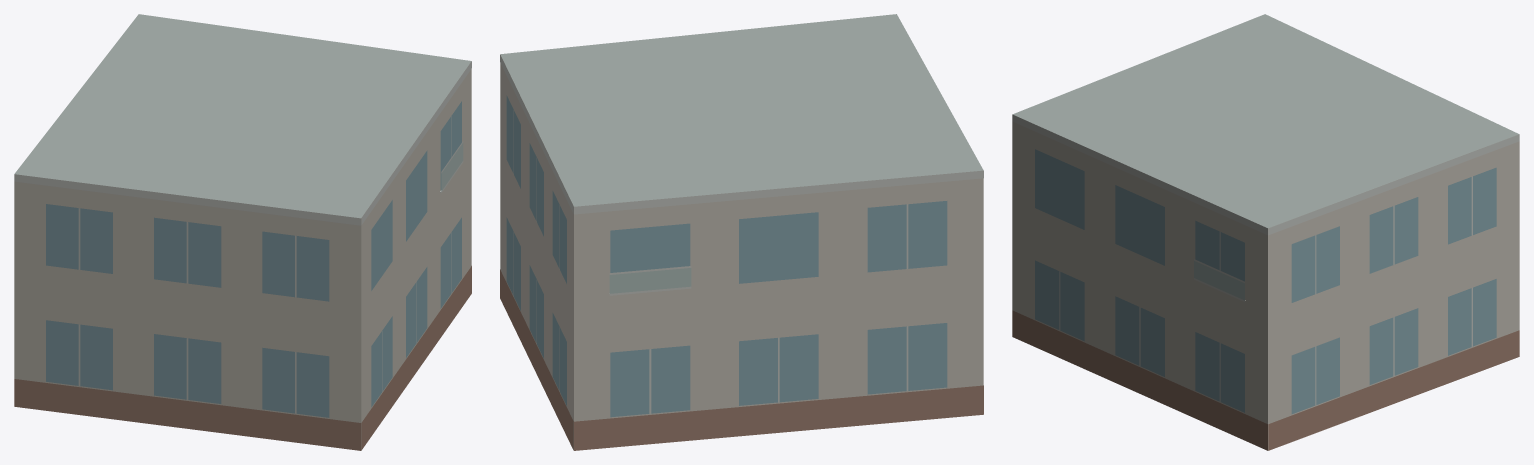
Rendered from survey-upis-32638911.glb.
3 renders of one model, left to right at view 1: azimuth 30°, elevation 25°; view 2: azimuth 150°, elevation 25°; view 3: azimuth 270°, elevation 25°, orthographic. The views are drawn at different scales.
Parts seen in each view (by area): view 1: survey-upis-32638911.tmp; view 2: survey-upis-32638911.tmp; view 3: survey-upis-32638911.tmp.
Boxes of the visible parts, x1=… form: survey-upis-32638911.tmp: x1=14, y1=14, x2=471, y2=450; survey-upis-32638911.tmp: x1=500, y1=14, x2=983, y2=450; survey-upis-32638911.tmp: x1=1012, y1=14, x2=1519, y2=450.
Size of the model in its own units: 15.92 by 7.7 by 15.92.
